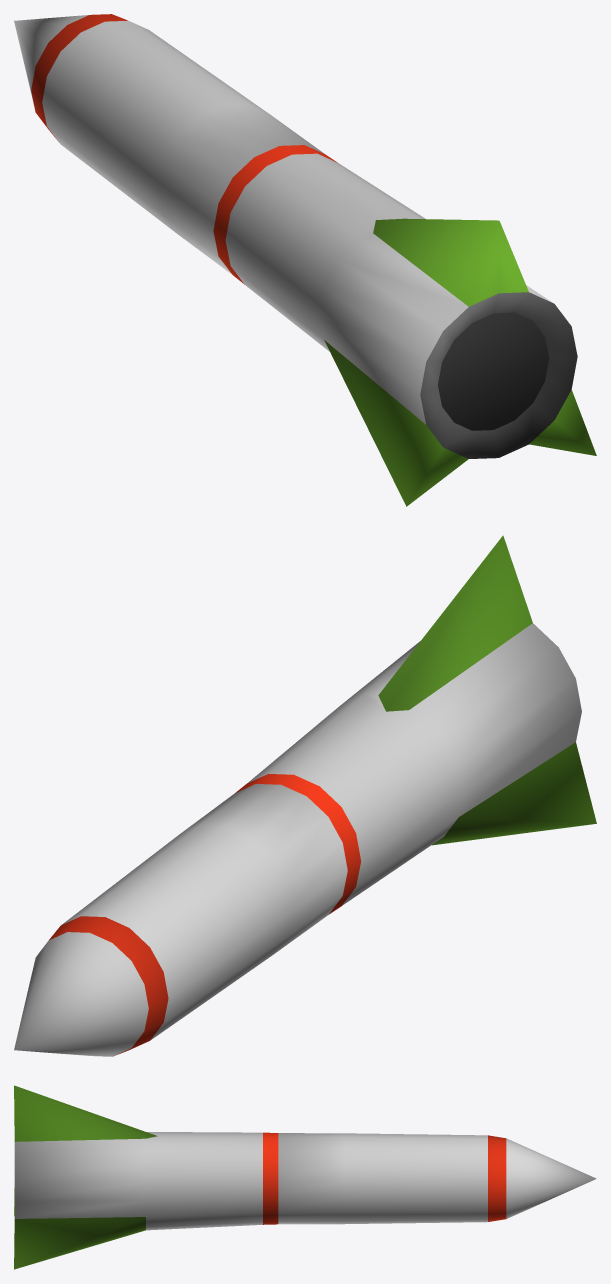
The model's file is Missile.fbx.
3 renders of one model, top to bottom at view 1: azimuth 30°, elevation 25°; view 2: azimuth 150°, elevation 25°; view 3: azimuth 270°, elevation 25°, orthographic. The views are drawn at different scales.
Visible parts, largest first — view 1: Missile; view 2: Missile; view 3: Missile.
Part boxes in pixels (x1,y1,x2,y2): Missile: (14, 14, 596, 506); Missile: (14, 535, 596, 1056); Missile: (14, 1085, 596, 1269).
Bounding box in the file's own units: 0.1391 × 0.184 × 0.6139.
